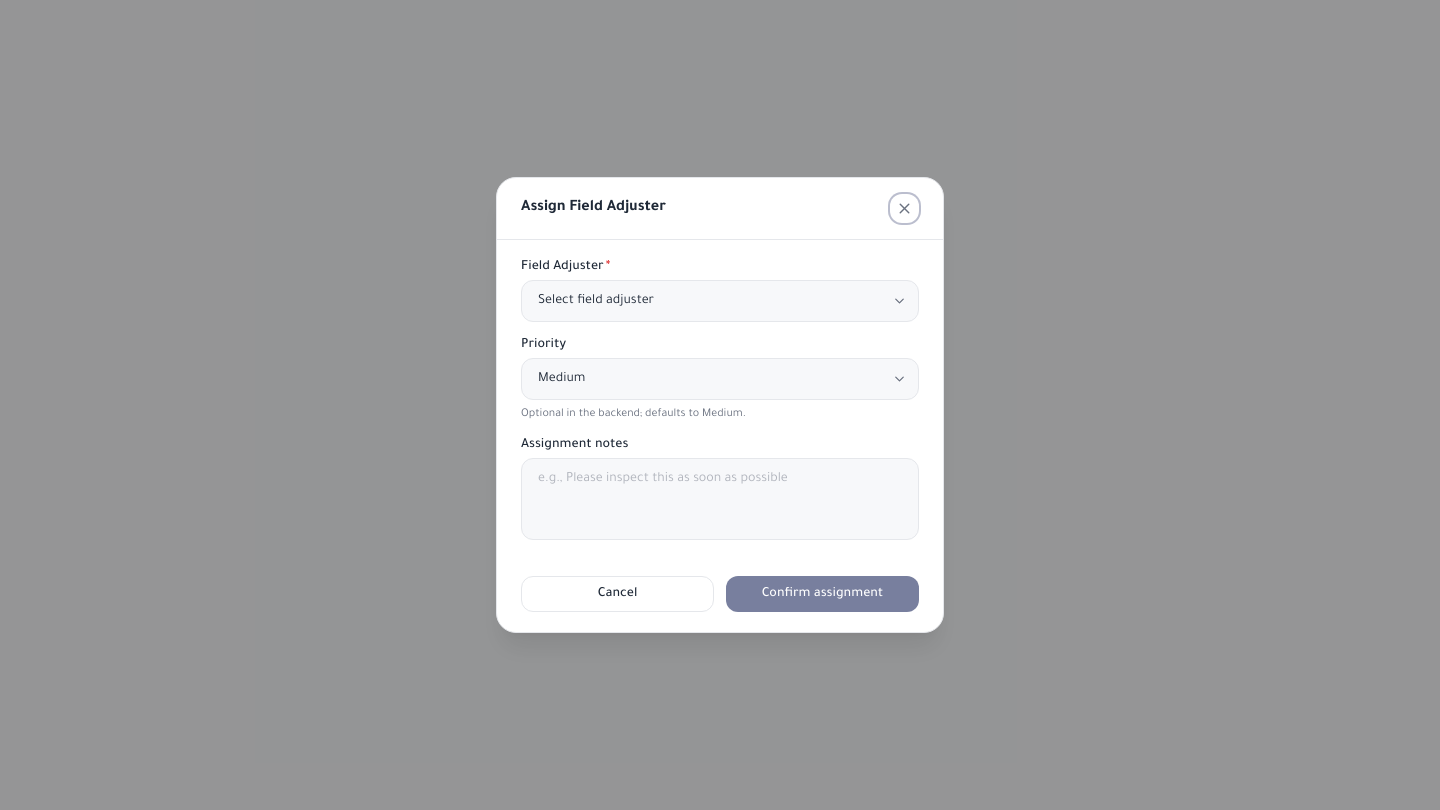
it: AssignClaimModal capacity override › shows the inline error (no override offered) for non-capacity rejections
This screenshot has width=1440, height=810.
Select "Aya (FA-001) — Available · 0/3" in the 1st dropdown showing "Select field adjuster" at [720, 301], box top-left (521, 280), bottom-right (919, 322)
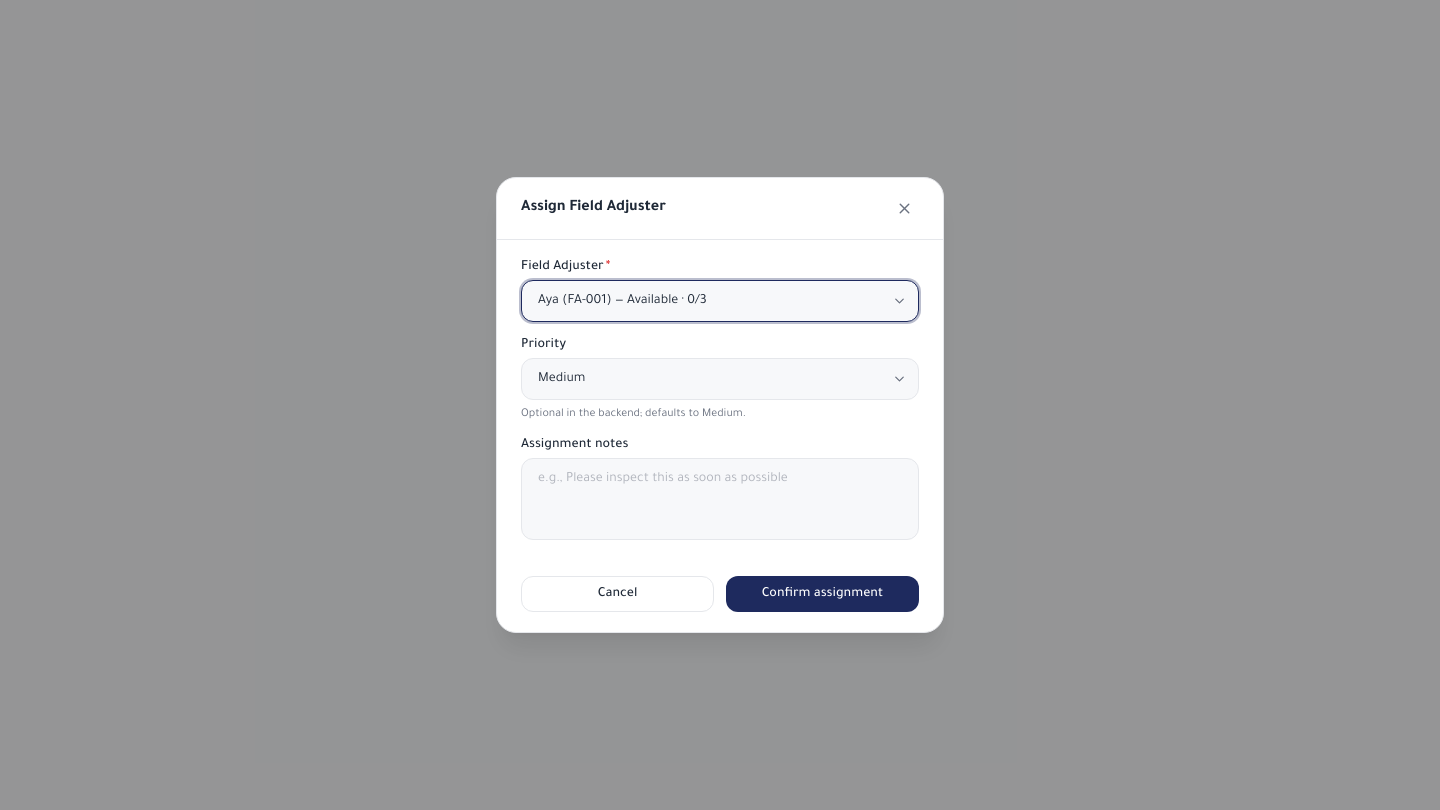
Click the button "Confirm assignment".
click(822, 594)  # box top-left (726, 576), bottom-right (919, 612)
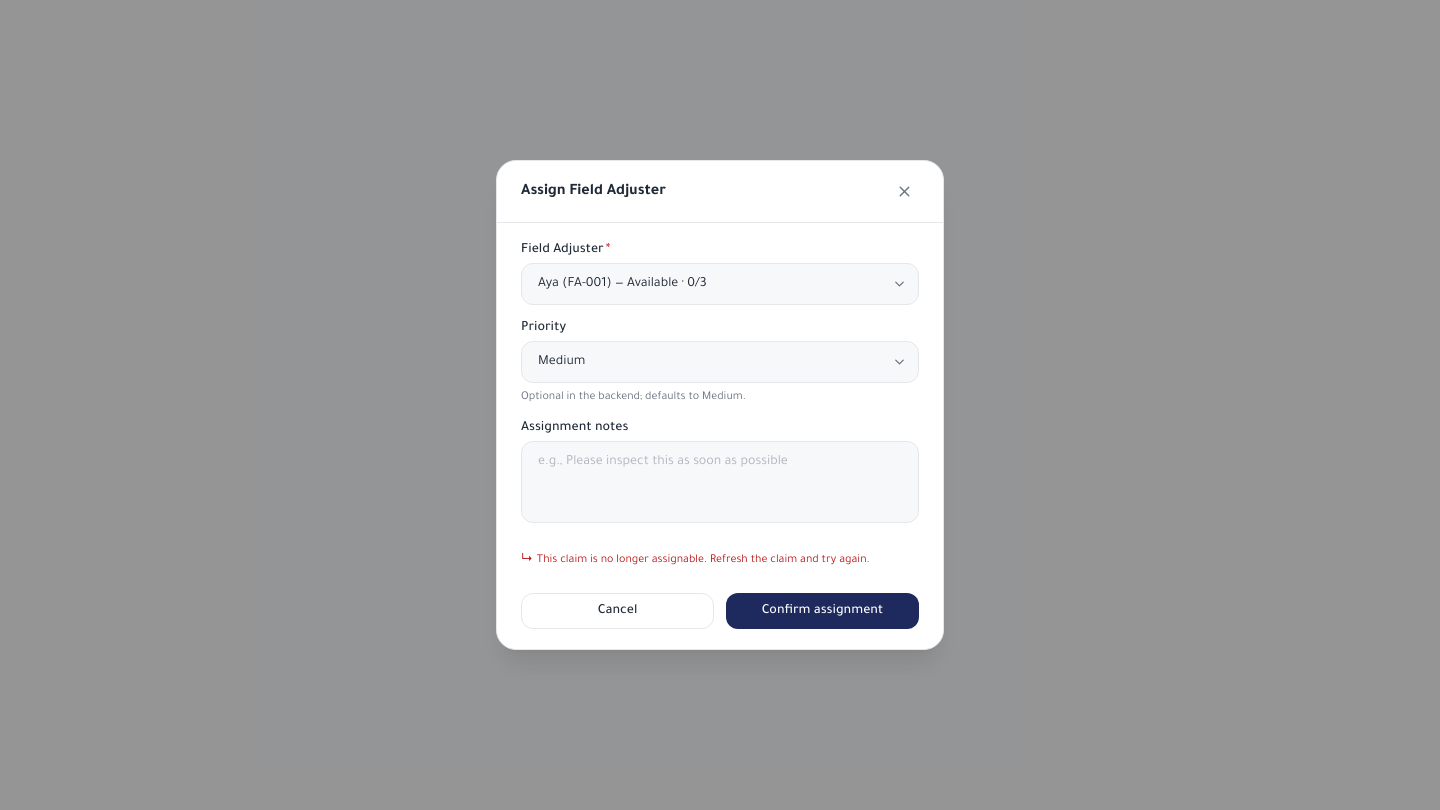
Check: the text "↳ This claim is no longer assignable. Refresh the claim and try again." is shown, box top-left (521, 552), bottom-right (919, 569)
